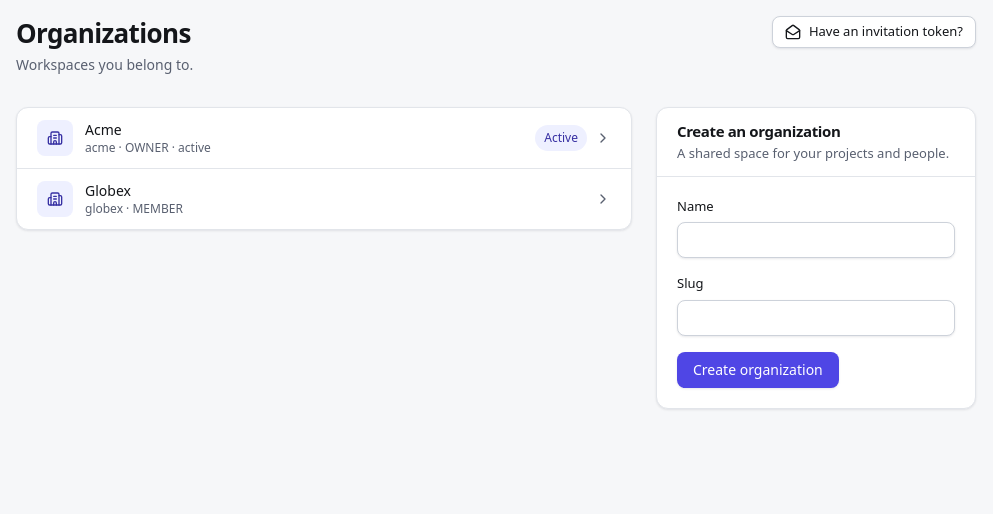
Test case: organization creation › shows the API slug conflict next to the field
Check: the text "Globex" is shown, box x1=85 y1=181 x2=131 y2=200
Type "Acme" into the field labelled "Name" at [816, 240], box x1=677 y1=222 x2=955 y2=258
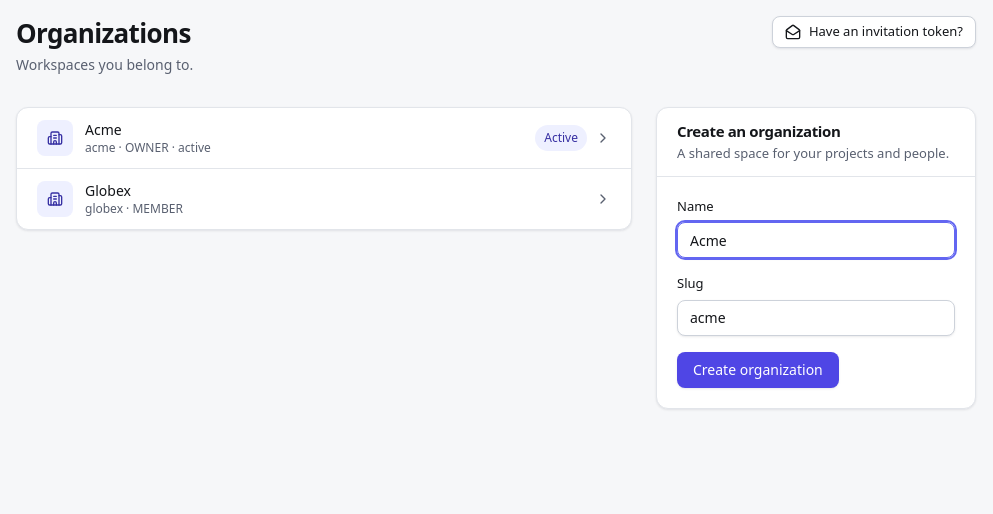
Click the button "Create organization" at [758, 370], box x1=677 y1=352 x2=839 y2=388
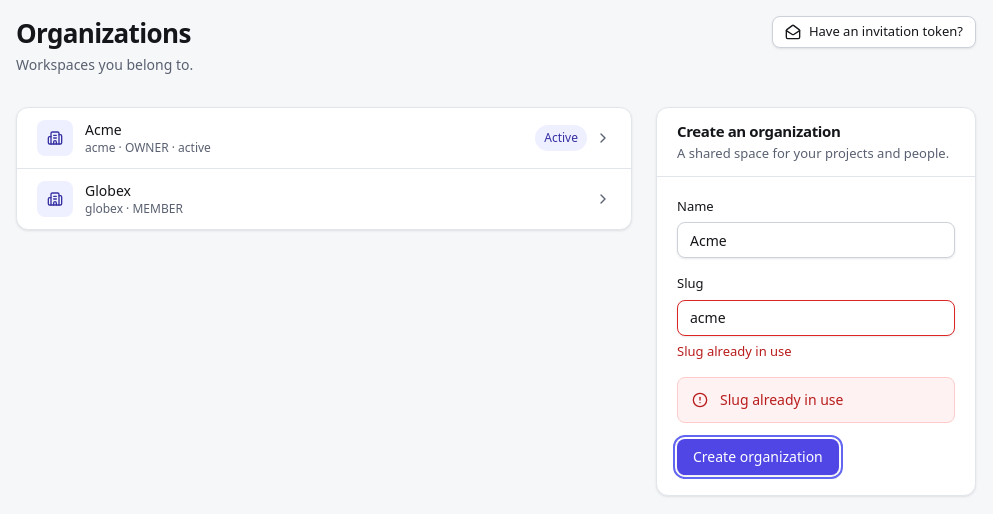
Check: the 1st text "Slug already in use" is shown, box x1=677 y1=342 x2=792 y2=360
